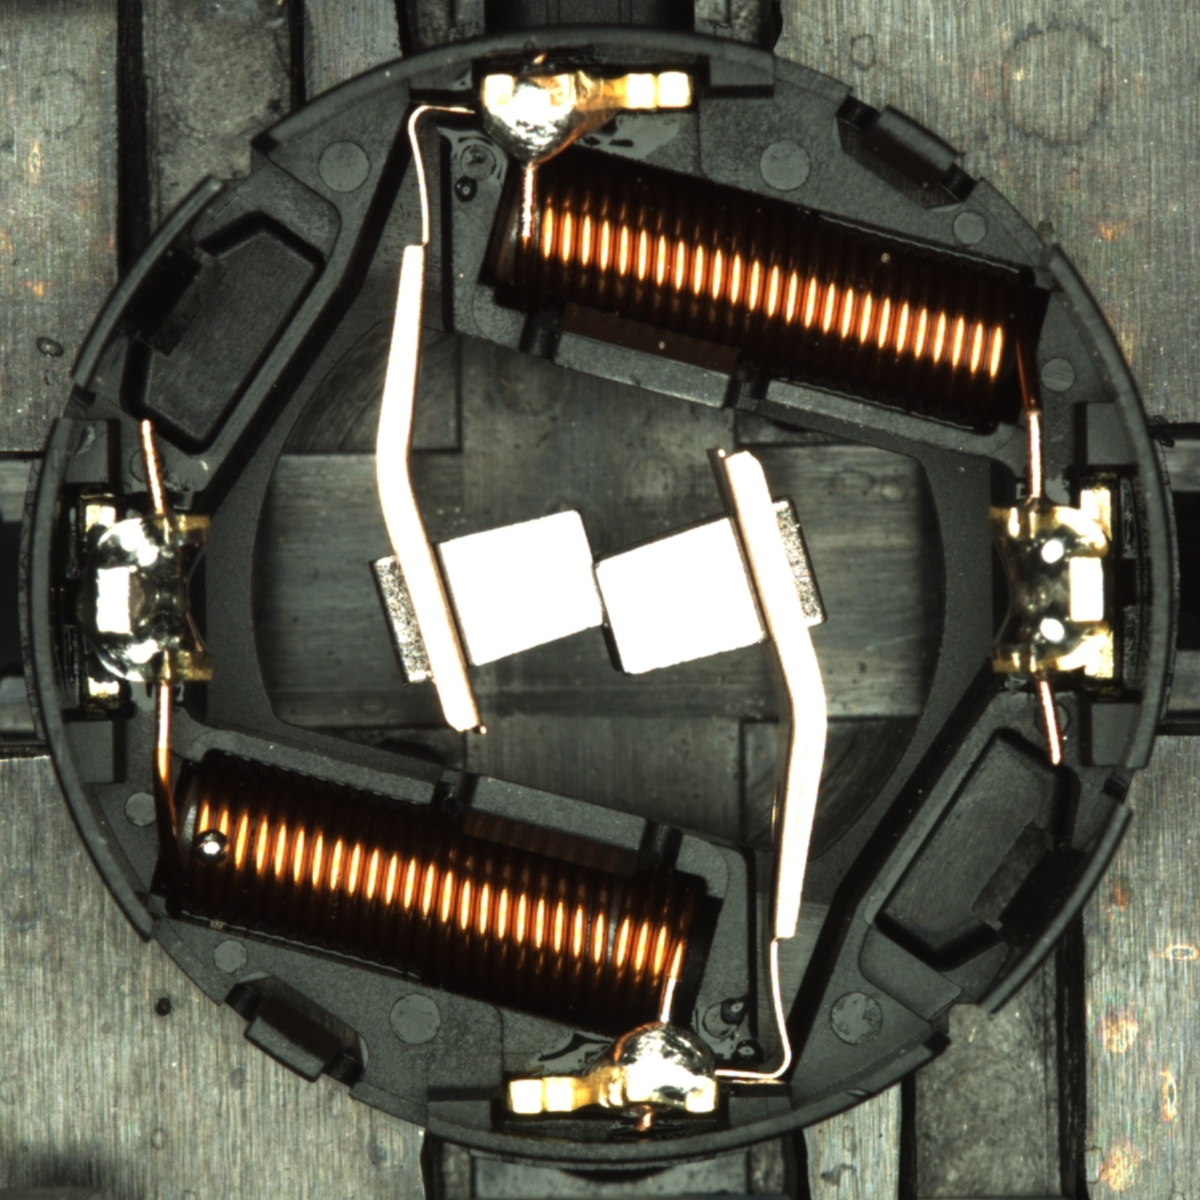1: (252, 30, 481, 255), (711, 927, 940, 1152)
2: (711, 30, 940, 255), (252, 927, 481, 1152)
3: (940, 703, 1169, 927), (23, 255, 252, 479)
4: (252, 255, 481, 479), (711, 703, 940, 927)
5: (481, 142, 711, 367), (481, 815, 711, 1040)
6: (252, 703, 481, 927), (711, 255, 940, 479)
7: (940, 255, 1169, 479), (23, 703, 252, 927)
cacbon: (392, 497, 800, 685)
chau_dien: (981, 486, 1121, 686), (79, 498, 219, 698)
hat_chi: (192, 827, 231, 866)
tay_choi: (478, 68, 697, 171), (505, 1018, 720, 1116)
thanh_de: (953, 786, 1141, 1030), (58, 163, 244, 405)
